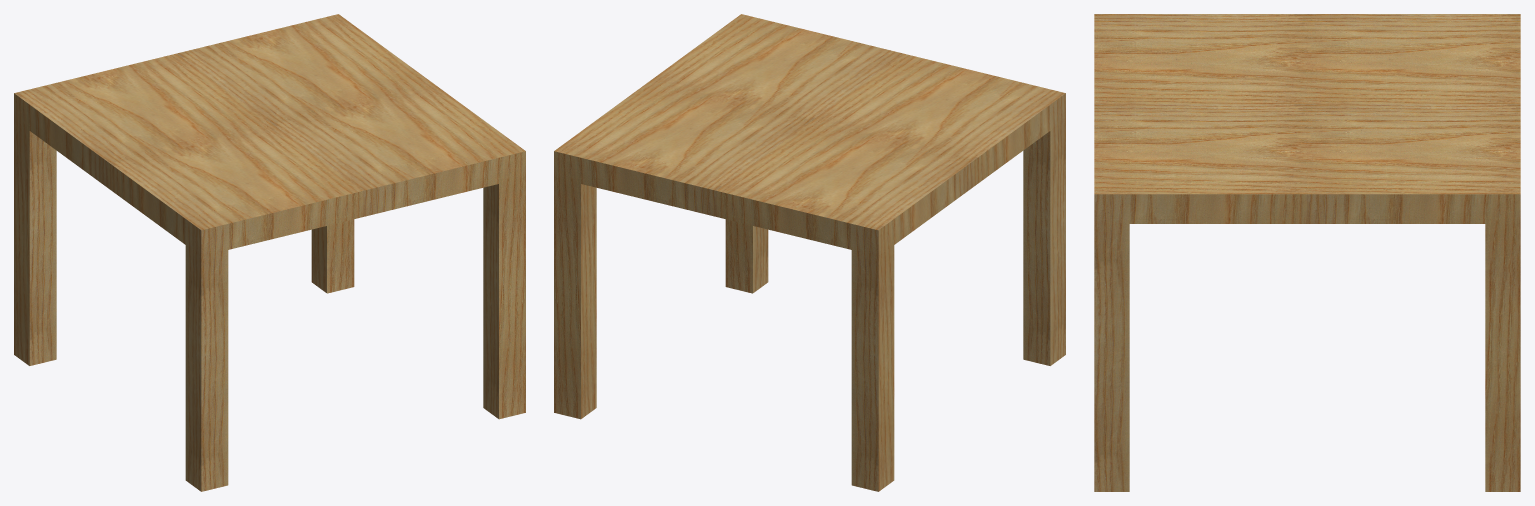
The model's file is table.fbx.
The picture shows the model from 3 angles, left to right: view 1: azimuth 30°, elevation 25°; view 2: azimuth 150°, elevation 25°; view 3: azimuth 270°, elevation 25°; orthographic projection. The views are drawn at different scales.
Parts seen in each view (by area): view 1: table; view 2: table; view 3: table.
Boxes of the visible parts, x1,y1,x2,y2 form: table: [14, 14, 525, 491]; table: [554, 14, 1065, 491]; table: [1094, 14, 1520, 491].
Size of the model in its own units: 50 by 38.51 by 50.
